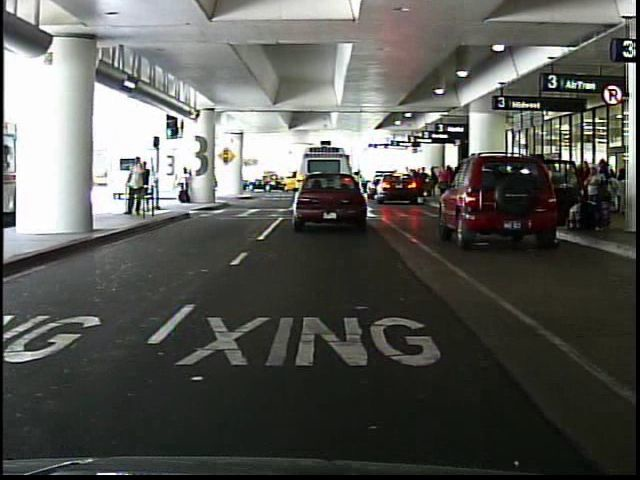person: (530, 152, 561, 234), (124, 153, 147, 221), (140, 160, 156, 219), (176, 167, 195, 208), (437, 163, 453, 201)
